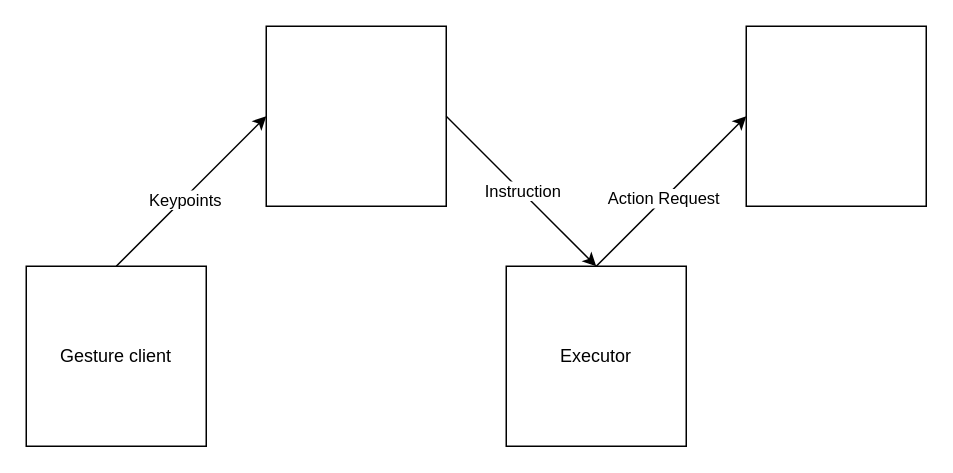
This 953x473 diagram has some shape labels left out. The centre of each missing label's shape, as x and y in pixels:
Control Server: the point at 355,115
Unity Engine: the point at 835,115
